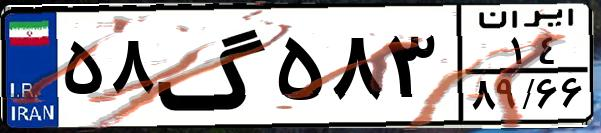1: (508, 27, 537, 80)
3: (385, 28, 445, 110)
4: (537, 27, 568, 80)
5: (270, 28, 330, 110), (57, 26, 110, 100)
6: (560, 70, 590, 125), (535, 70, 560, 125)
8: (330, 28, 385, 110), (110, 28, 156, 98), (470, 70, 495, 125)
9: (495, 70, 520, 125)
گ: (156, 12, 270, 120)
